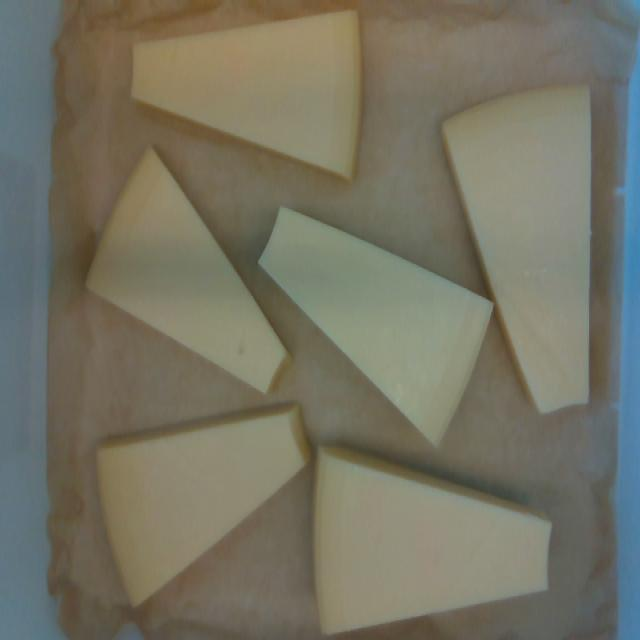Cheese: (259, 209, 489, 444), (88, 149, 286, 391), (445, 89, 590, 412), (314, 447, 550, 632), (97, 405, 309, 604), (133, 13, 360, 177)
